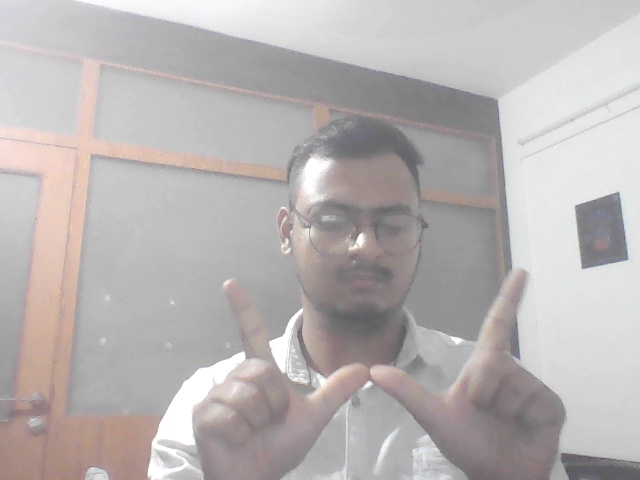Whatever: (188, 264, 572, 480)
